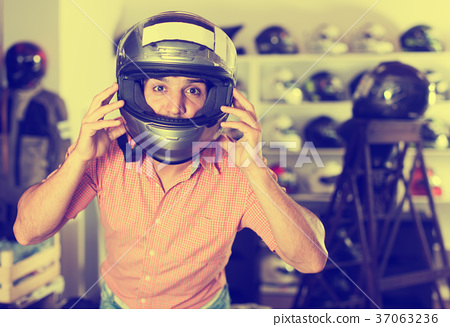helmet: (115, 16, 240, 154)
